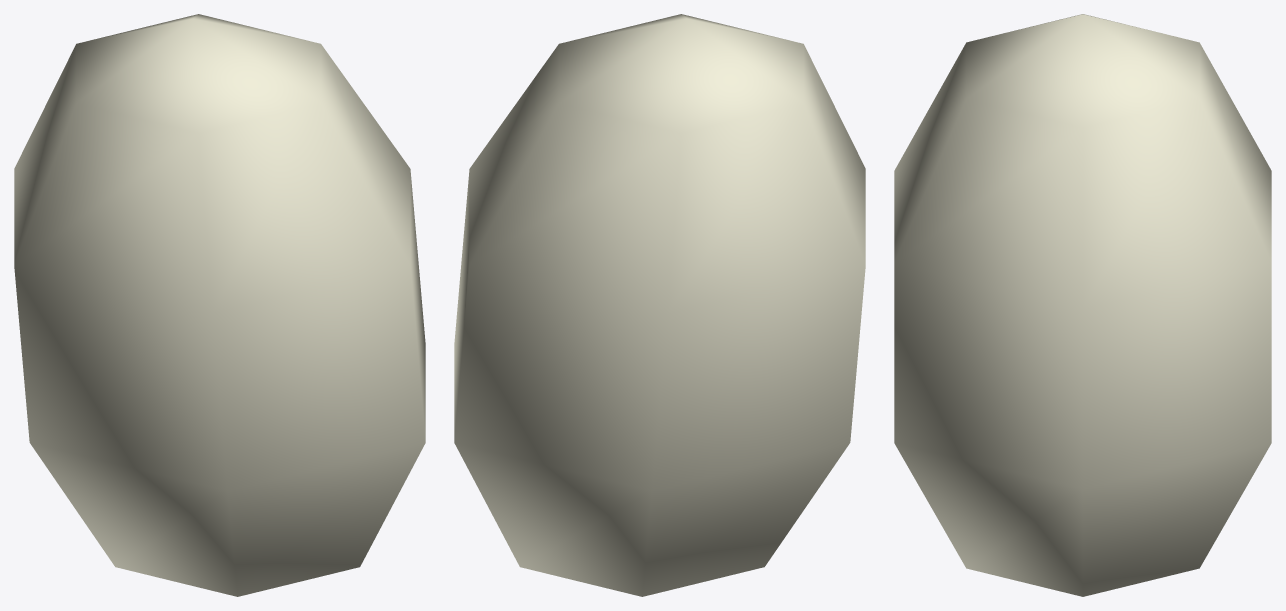
File: Egg_B.fbx
3 views of the same model, side by side, from view 1: azimuth 30°, elevation 25°; view 2: azimuth 150°, elevation 25°; view 3: azimuth 270°, elevation 25° (orthographic). The views are drawn at different scales.
Visible parts, largest first — view 1: Egg_B; view 2: Egg_B; view 3: Egg_B.
Part boxes in pixels (left/top/right/bottom): Egg_B: left=14, top=14, right=425, bottom=596; Egg_B: left=454, top=14, right=865, bottom=596; Egg_B: left=894, top=14, right=1271, bottom=596.
Bounding box in the file's own units: 9.86 × 13.39 × 8.21.
